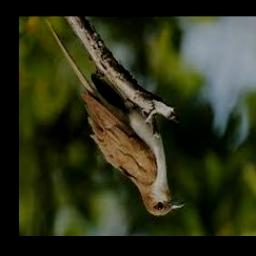Cuckoo: (46, 19, 185, 216)
